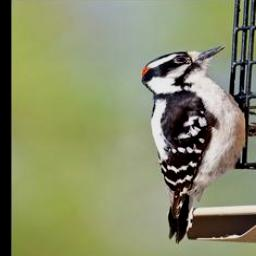Woodpecker: (138, 45, 256, 247)
